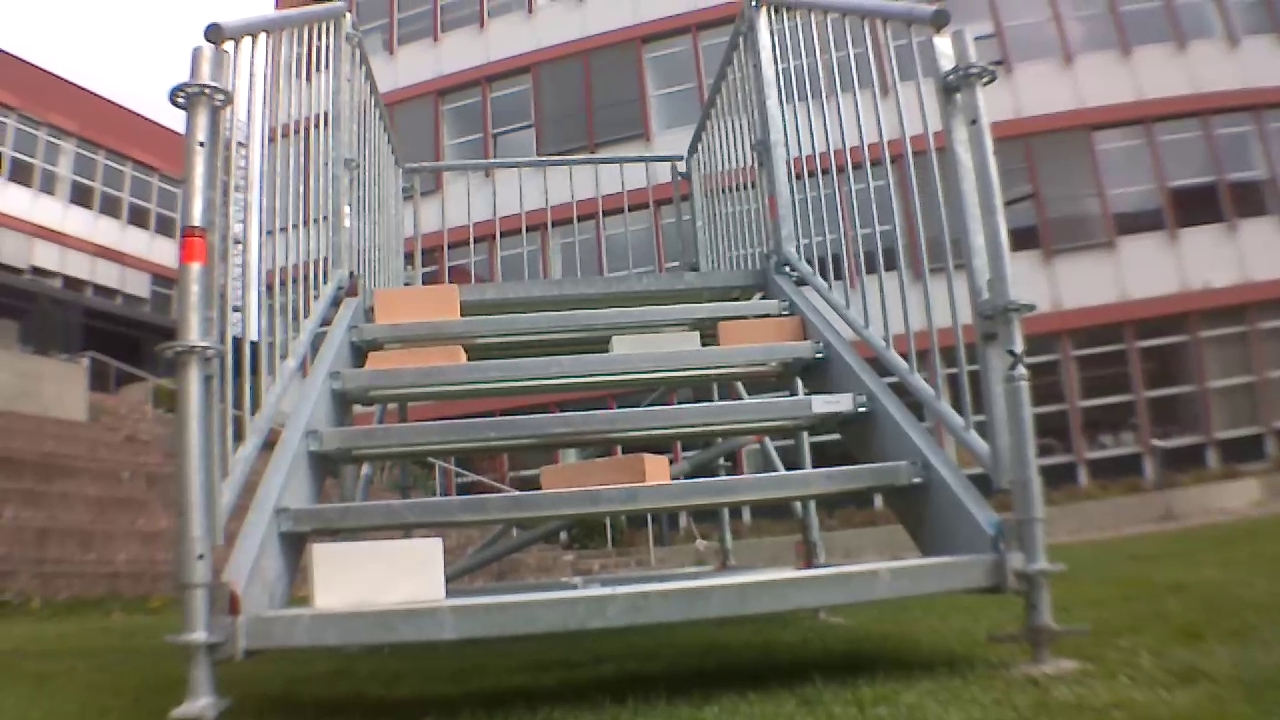brick: (306, 540, 440, 610), (542, 453, 677, 489), (372, 284, 459, 320), (364, 345, 464, 374), (717, 318, 807, 344), (608, 333, 698, 358)
edge: (250, 568, 1009, 652), (277, 458, 923, 533), (308, 394, 869, 452), (328, 331, 830, 394), (349, 298, 792, 343), (368, 267, 769, 299)
stairs: (169, 1, 1069, 672)
steps: (236, 267, 992, 659)
